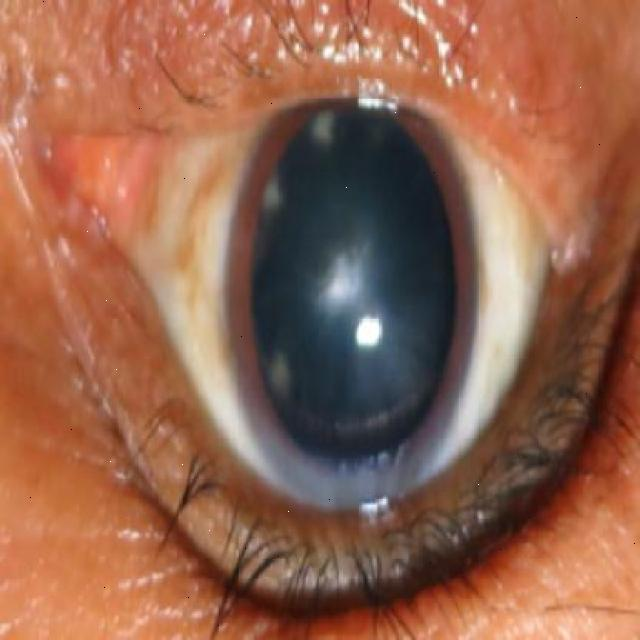Cataract: (226, 57, 478, 515)
